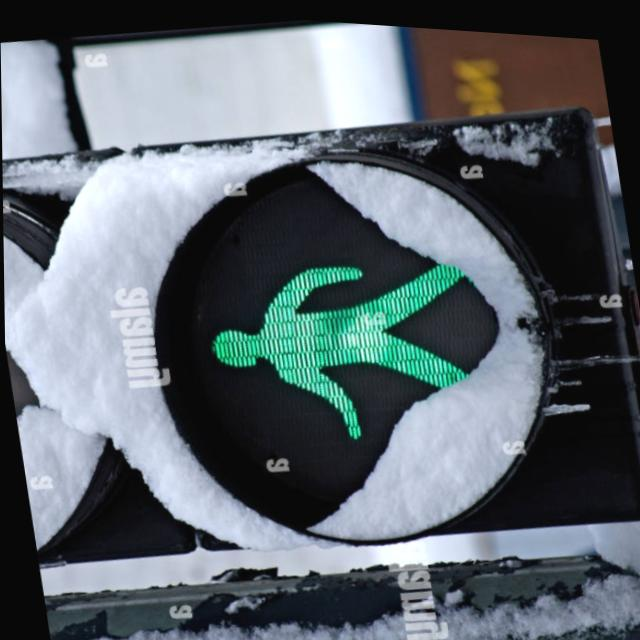green_light: (187, 233, 466, 435)
